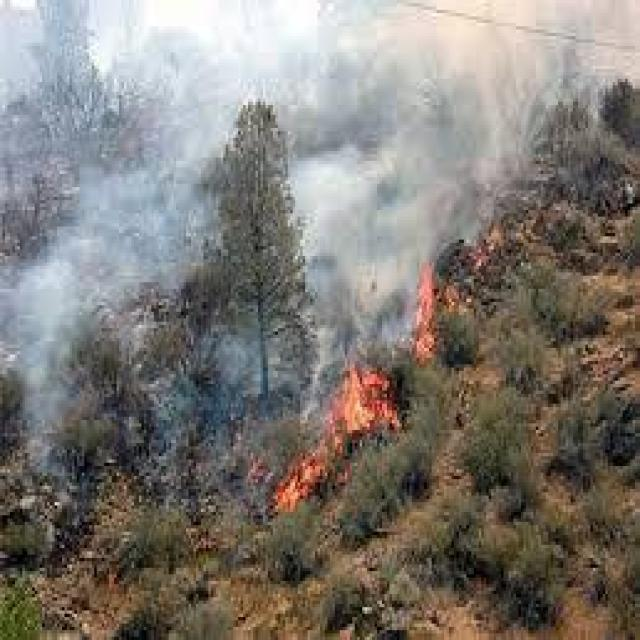Fire: (268, 354, 410, 512), (392, 216, 518, 374)
Smoke: (0, 0, 640, 213), (0, 151, 213, 449)
